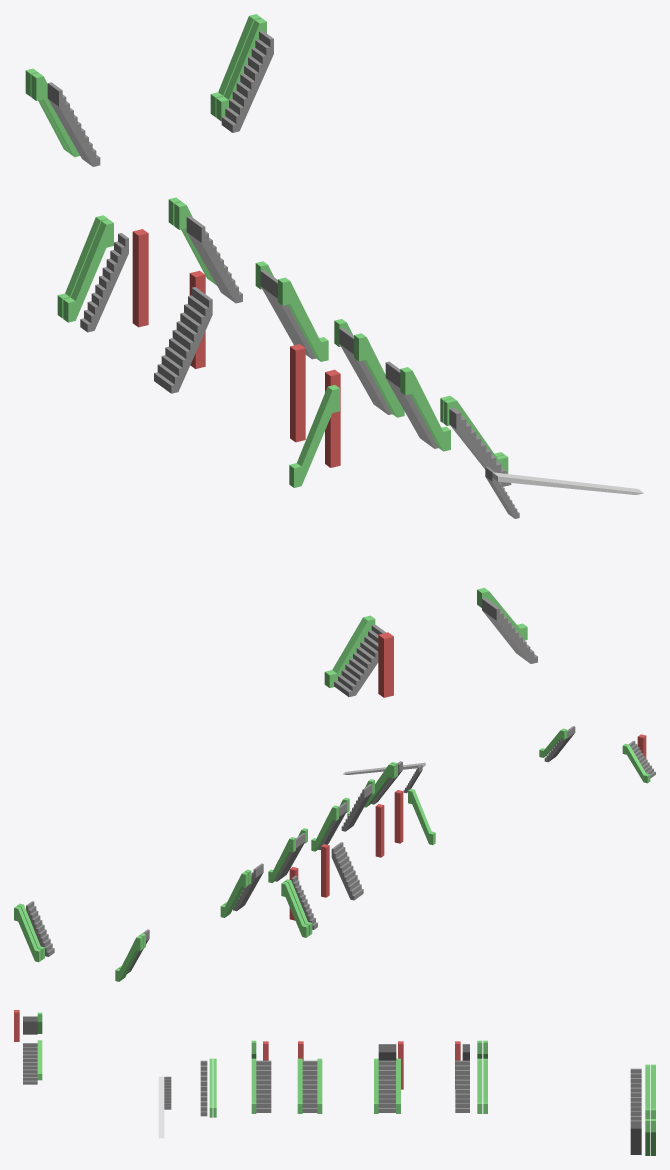
3 renders of one model, top to bottom at view 1: azimuth 30°, elevation 25°; view 2: azimuth 150°, elevation 25°; view 3: azimuth 270°, elevation 25°, orthographic. The views are drawn at different scales.
Visible parts, largest first — view 1: 階段.009, 階段.027, 階段.015, エスカレーター.015, エスカレーター.019, 階段.014, 階段.016, エレベーター.005, エレベーター.003, 階段.026, エスカレーター.014, エスカレーター.010 (+11 smaller); view 2: 階段.009, 階段.027, エスカレーター.015, エスカレーター.018, エスカレーター.033, エレベーター.002, エレベーター.003, 階段.013, エレベーター.004, 階段.014, エスカレーター.017, 階段.015 (+4 smaller); view 3: 階段.010, 階段.013, 階段.011, 階段.014, 階段.026, 階段.017, 階段.007, スロープ, 階段.027, エスカレーター.012, エスカレーター.013, エスカレーター.016 (+12 smaller).
Part boxes in pixels (x1=…): 階段.009: x1=154, y1=287, x2=212, y2=393; 階段.027: x1=221, y1=30, x2=273, y2=132; 階段.015: x1=80, y1=233, x2=128, y2=332; エスカレーター.015: x1=289, y1=385, x2=339, y2=487; エスカレーター.019: x1=63, y1=219, x2=113, y2=322; 階段.014: x1=186, y1=216, x2=242, y2=303; 階段.016: x1=334, y1=624, x2=385, y2=696; エレベーター.005: x1=132, y1=229, x2=148, y2=327; エレベーター.003: x1=290, y1=344, x2=305, y2=442; 階段.026: x1=47, y1=82, x2=100, y2=166; エスカレーター.014: x1=400, y1=367, x2=450, y2=451; エスカレーター.010: x1=278, y1=277, x2=328, y2=361; 階段.009: x1=331, y1=842, x2=363, y2=900; 階段.027: x1=26, y1=901, x2=54, y2=956; エスカレーター.015: x1=408, y1=789, x2=435, y2=844; エスカレーター.018: x1=281, y1=881, x2=308, y2=937; エスカレーター.033: x1=14, y1=906, x2=41, y2=962; エレベーター.002: x1=394, y1=790, x2=403, y2=843; エレベーター.003: x1=375, y1=804, x2=384, y2=857; 階段.013: x1=341, y1=784, x2=372, y2=831; エレベーター.004: x1=321, y1=844, x2=329, y2=897; 階段.014: x1=233, y1=863, x2=263, y2=911; エスカレーター.017: x1=220, y1=872, x2=248, y2=917; 階段.015: x1=291, y1=875, x2=317, y2=929; 階段.010: x1=378, y1=1060, x2=395, y2=1112; 階段.013: x1=256, y1=1060, x2=271, y2=1112; 階段.011: x1=302, y1=1060, x2=317, y2=1112; 階段.014: x1=455, y1=1060, x2=469, y2=1112; 階段.026: x1=630, y1=1068, x2=641, y2=1120; 階段.017: x1=23, y1=1043, x2=37, y2=1084; 階段.007: x1=200, y1=1060, x2=207, y2=1116; スロープ: x1=158, y1=1076, x2=164, y2=1138; 階段.027: x1=630, y1=1120, x2=641, y2=1154; エスカレーター.012: x1=297, y1=1058, x2=302, y2=1113; エスカレーター.013: x1=317, y1=1058, x2=322, y2=1113; エスカレーター.016: x1=477, y1=1058, x2=482, y2=1113.
Size of the model in its own units: 10878 by 1954 by 22185.
